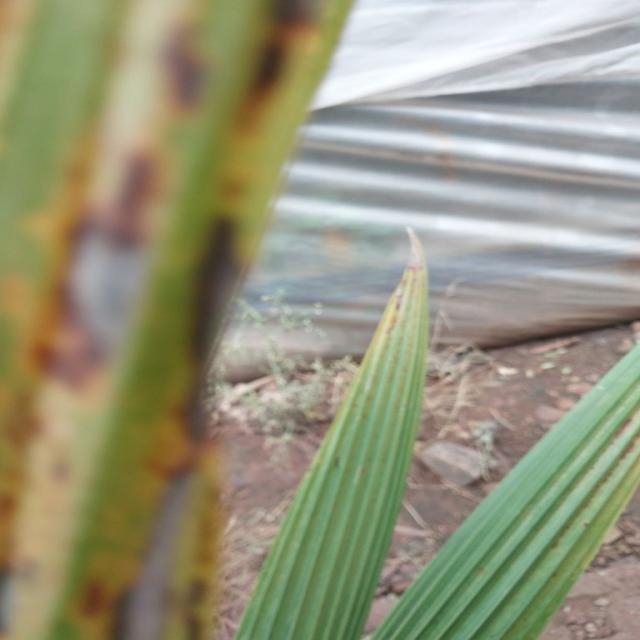gray leaf spot: (0, 3, 354, 639)
